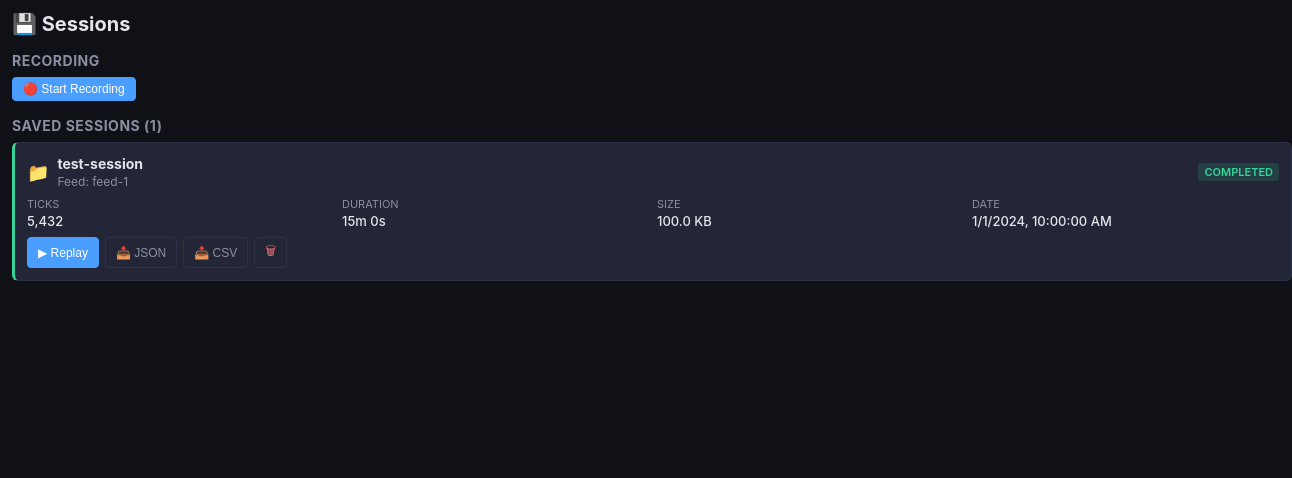
Test: SessionManager › shows replay panel after replay starts
Check: the text "test-session" is shown, box [58, 155, 143, 172]
Click the button "▶ Replay" at (63, 252), box [27, 237, 99, 268]
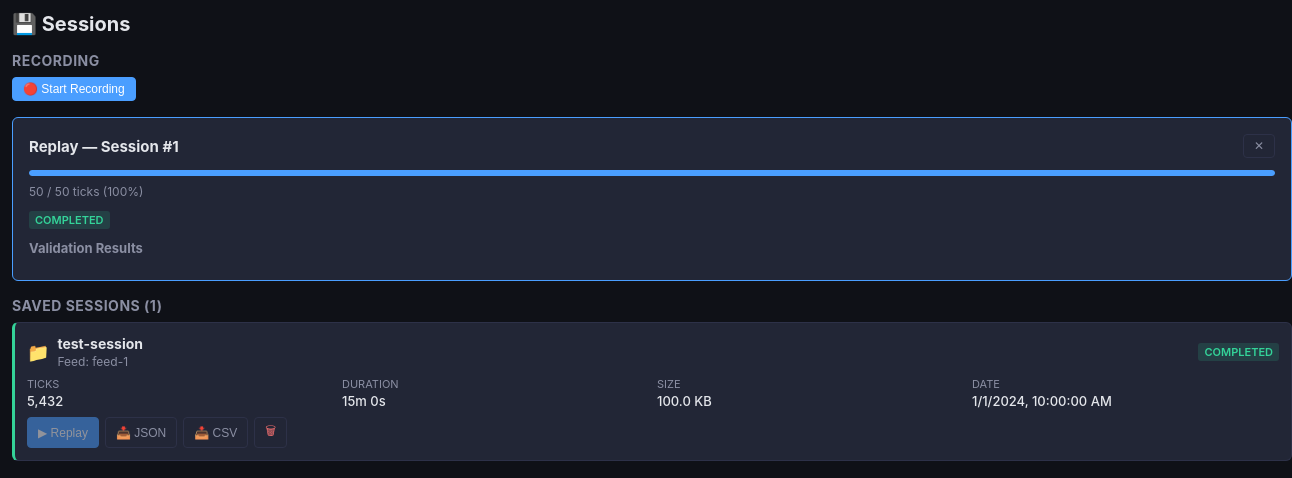
Check: the heading "Replay — Session #1" is shown, box [29, 136, 179, 156]
